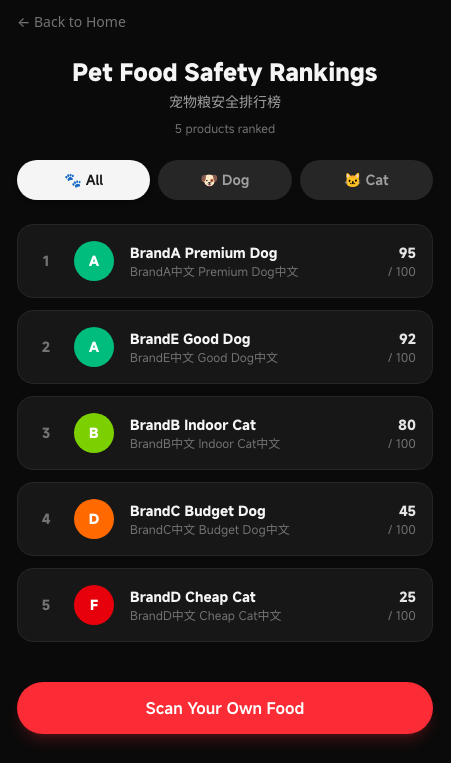
Test: RankingClient › returns to all when clicking All tab
What coordinates should you click on to do the following:
click the button with test id "filter-cat"
I would click on:
 (366, 180)
Its box is [300,160,433,200].
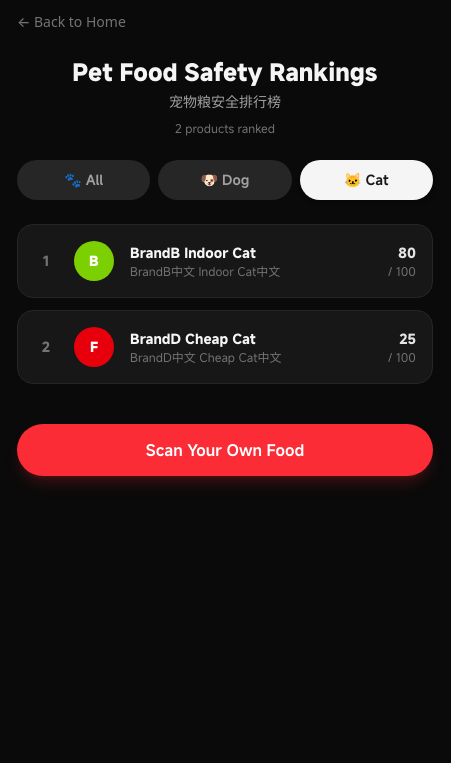
expect the text "2 products ranked" is shown: met, box [175,120,275,136]
What coordinates should you click on to do the following:
click the button with test id "filter-all"
I would click on:
 (84, 180)
Its box is [17,160,150,200].
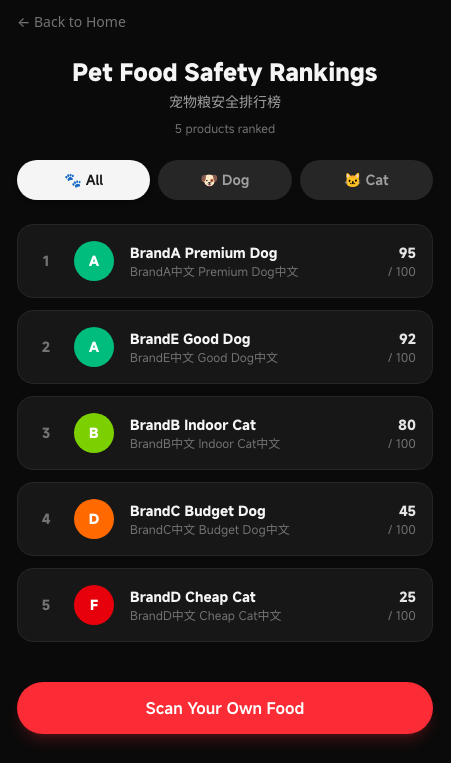
expect the text "5 products ranked" is shown: met, box [175,120,275,136]
